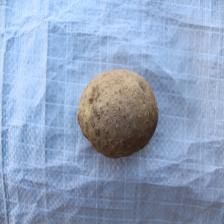Diseased-fungal potato: (76, 68, 159, 158)
